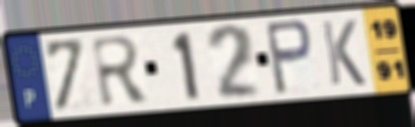1: (170, 28, 202, 103)
2: (205, 22, 266, 104)
7: (44, 35, 87, 114)
K: (318, 18, 368, 88)
P: (263, 17, 316, 97)
R: (88, 33, 153, 111)
